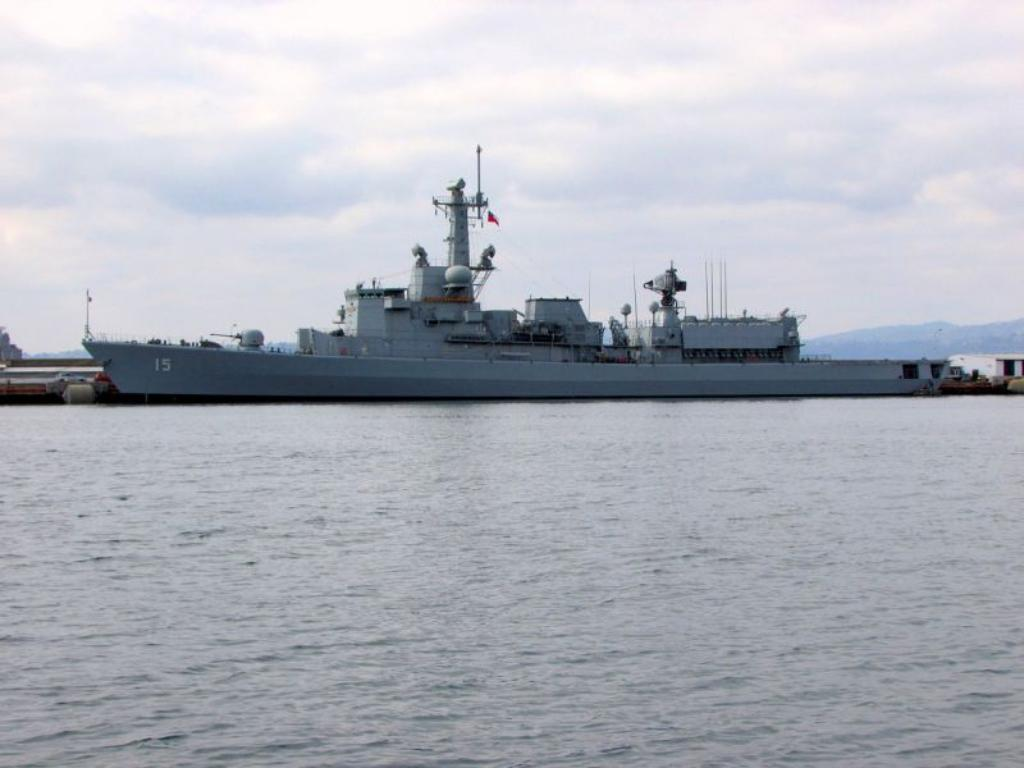Warship: (82, 150, 956, 408)
